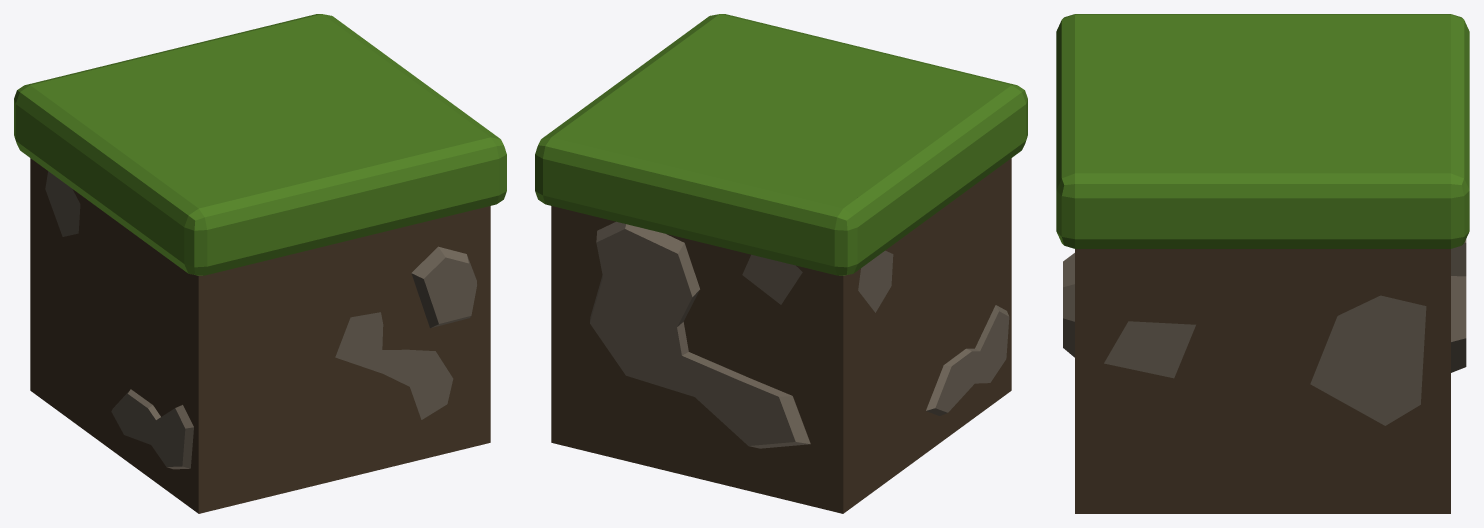
Rendered from GrassTile1.glb.
The picture shows the model from 3 angles, left to right: view 1: azimuth 30°, elevation 25°; view 2: azimuth 150°, elevation 25°; view 3: azimuth 270°, elevation 25°; orthographic projection. The views are drawn at different scales.
Visible parts, largest first — view 1: Main_Big_2_4_Clone_, Big_Grass_Tile_1; view 2: Main_Big_2_4_Clone_, Big_Grass_Tile_1; view 3: Main_Big_2_4_Clone_, Big_Grass_Tile_1.
Boxes of the visible parts, left/top/right/bottom form: Main_Big_2_4_Clone_: left=30, top=158, right=490, bottom=513; Big_Grass_Tile_1: left=14, top=14, right=506, bottom=275; Main_Big_2_4_Clone_: left=551, top=158, right=1011, bottom=513; Big_Grass_Tile_1: left=535, top=14, right=1027, bottom=275; Main_Big_2_4_Clone_: left=1063, top=239, right=1466, bottom=513; Big_Grass_Tile_1: left=1056, top=14, right=1469, bottom=248.
Bounding box in the file's own units: 2.2 × 2 × 2.2.
1 material, 1 textured.
